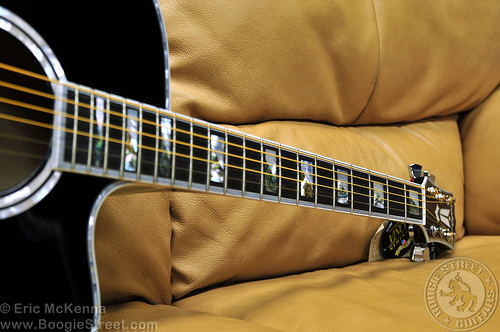guitar: (1, 1, 461, 331)
